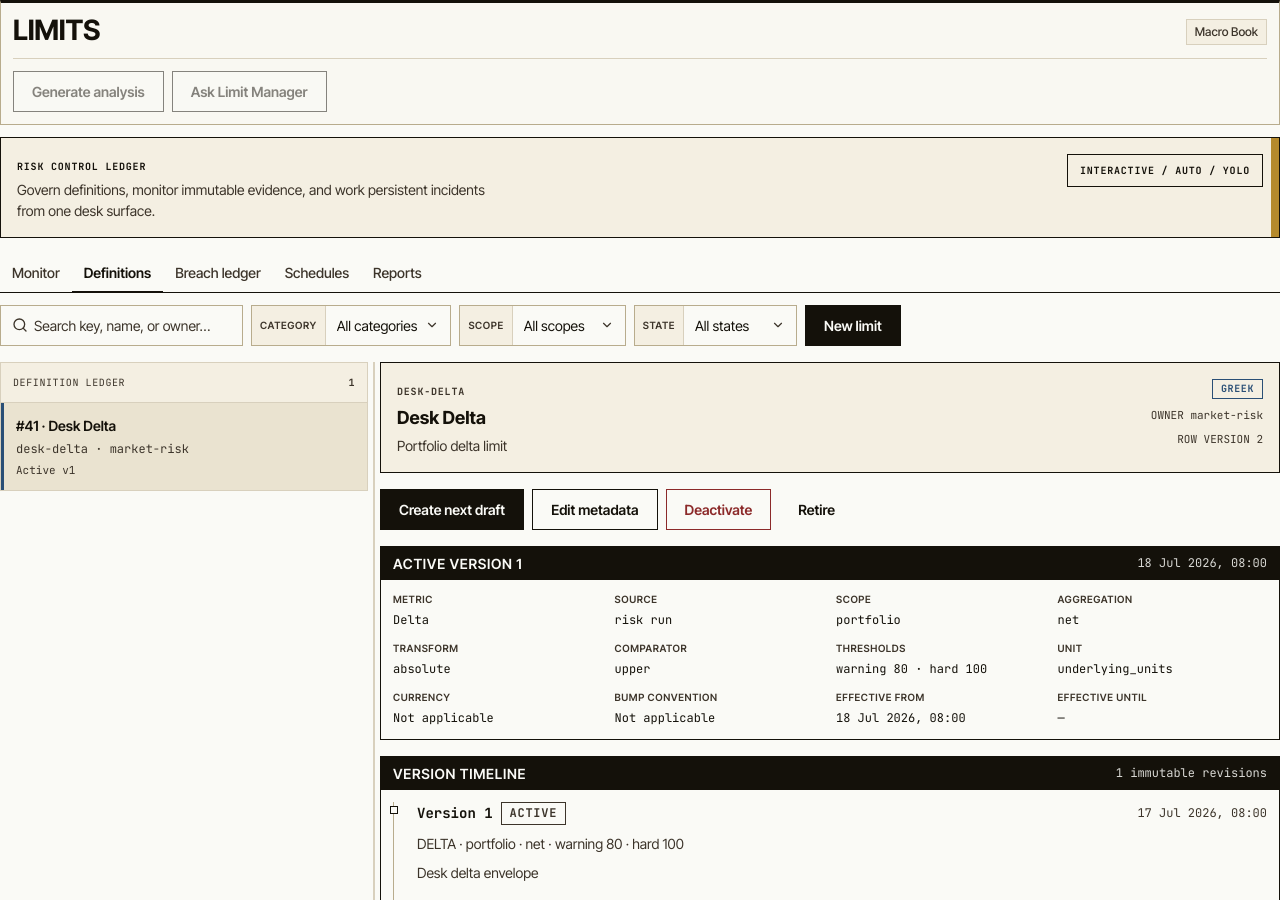
Test case: LimitsLive definitions › creates a RhoQ draft with the current row version, then activates it separately
Expected: the heading "Desk Delta" is shown, [397,407,486,428]
Expected: the text "Active version 1" is shown, [393,553,522,574]
Click the button "Create next draft".
click(452, 509)  # box [380,489,524,530]
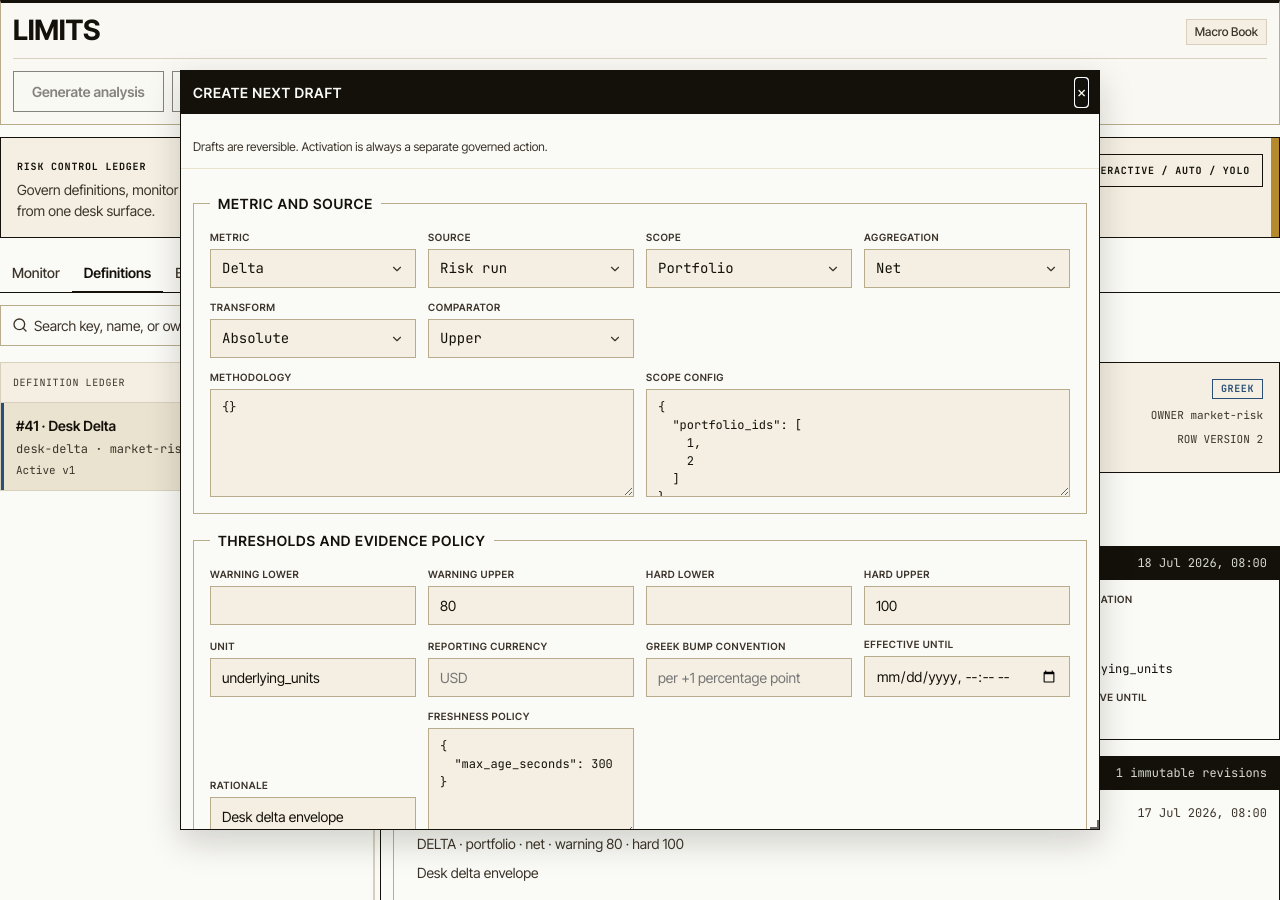
Select "RhoQ" in the dropdown labelled "Metric" at (230, 237), box [210,231,250,243]
(page scrolled)
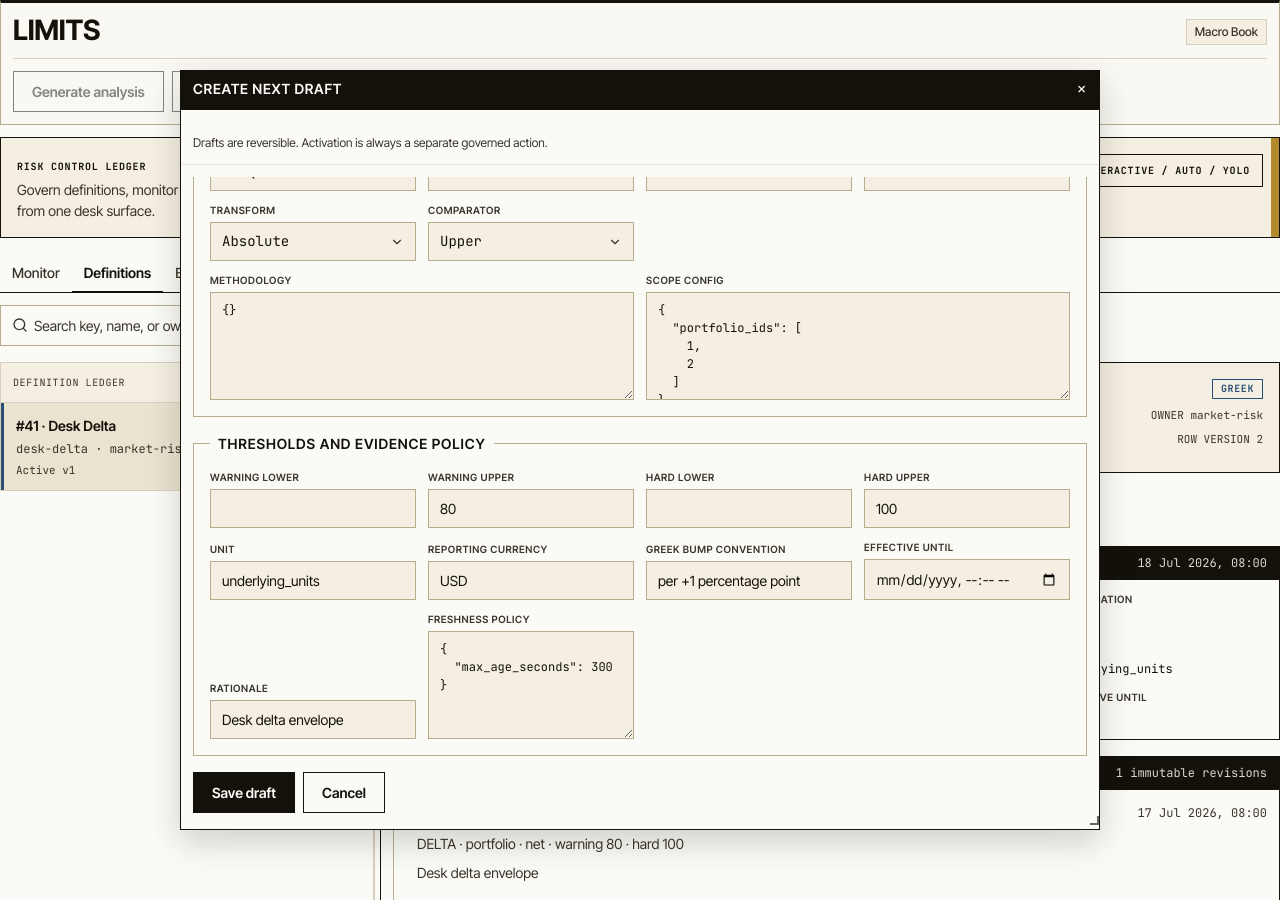
Click the button "Save draft".
click(244, 792)  # box [193,772,295,813]
(page scrolled)
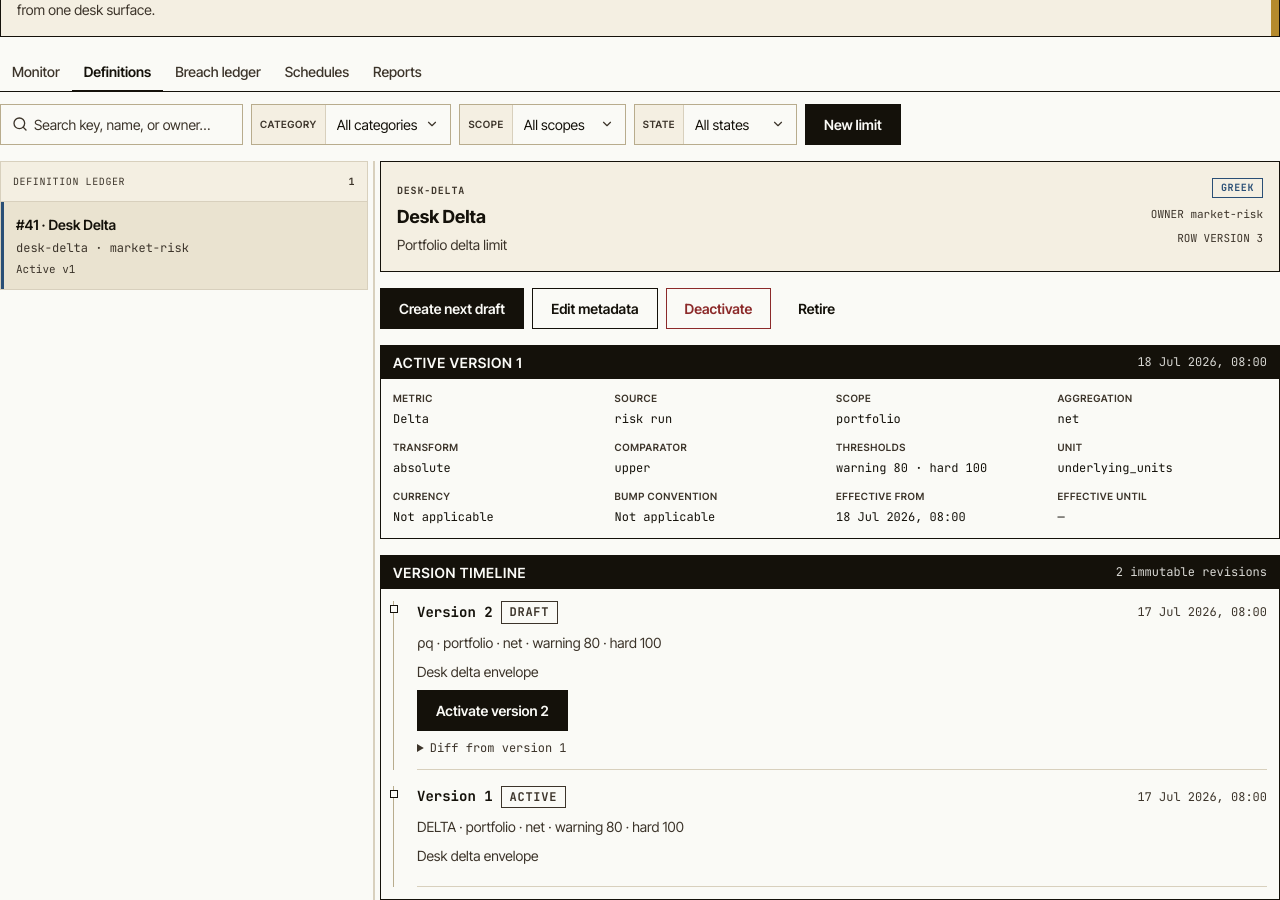
Click the button "Activate version 2".
click(492, 710)  # box [417,690,568,731]
(page scrolled)
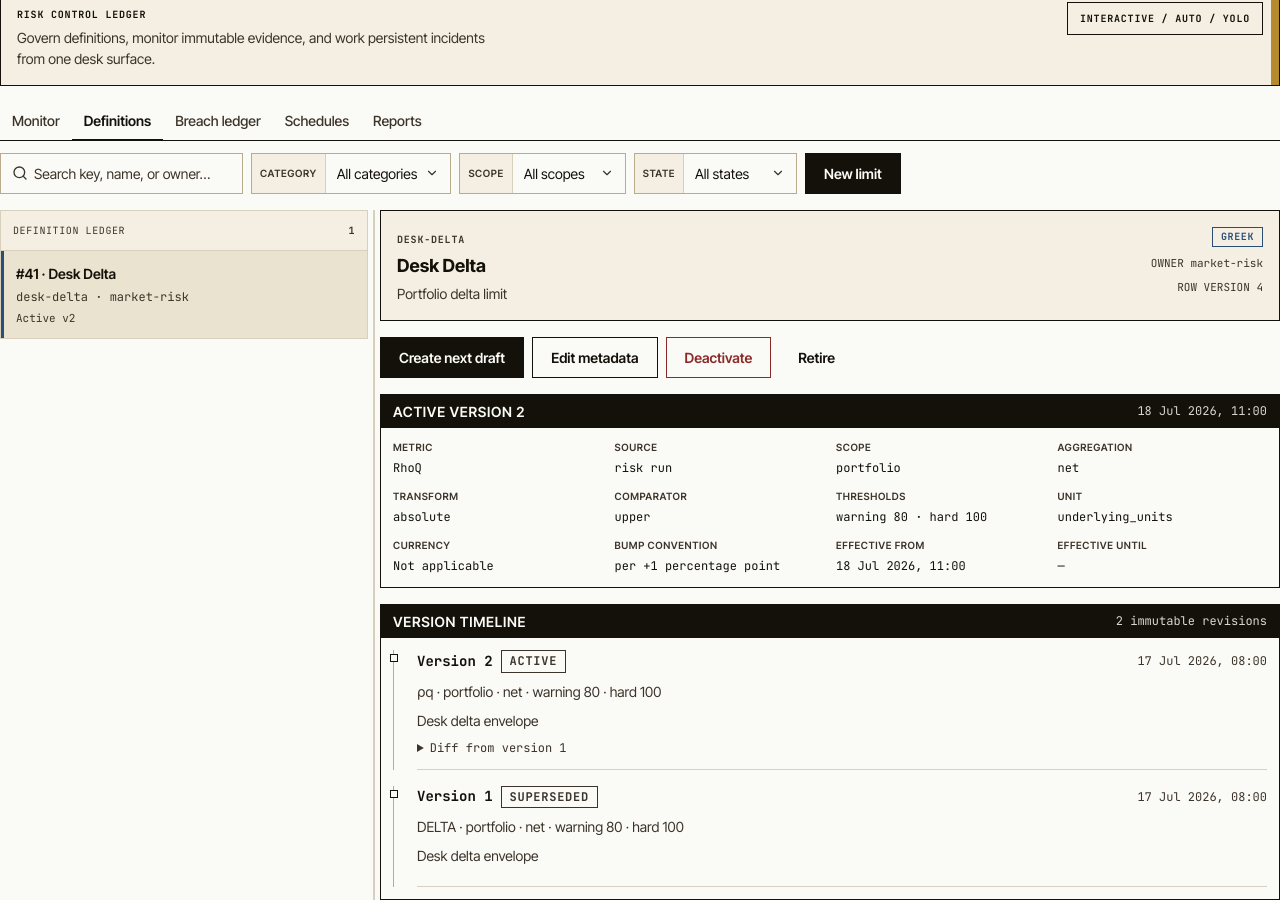
Expected: the text "Active version 2" is shown, [393,401,525,422]
Expected: the text "RhoQ" is shown, [393,460,422,476]
